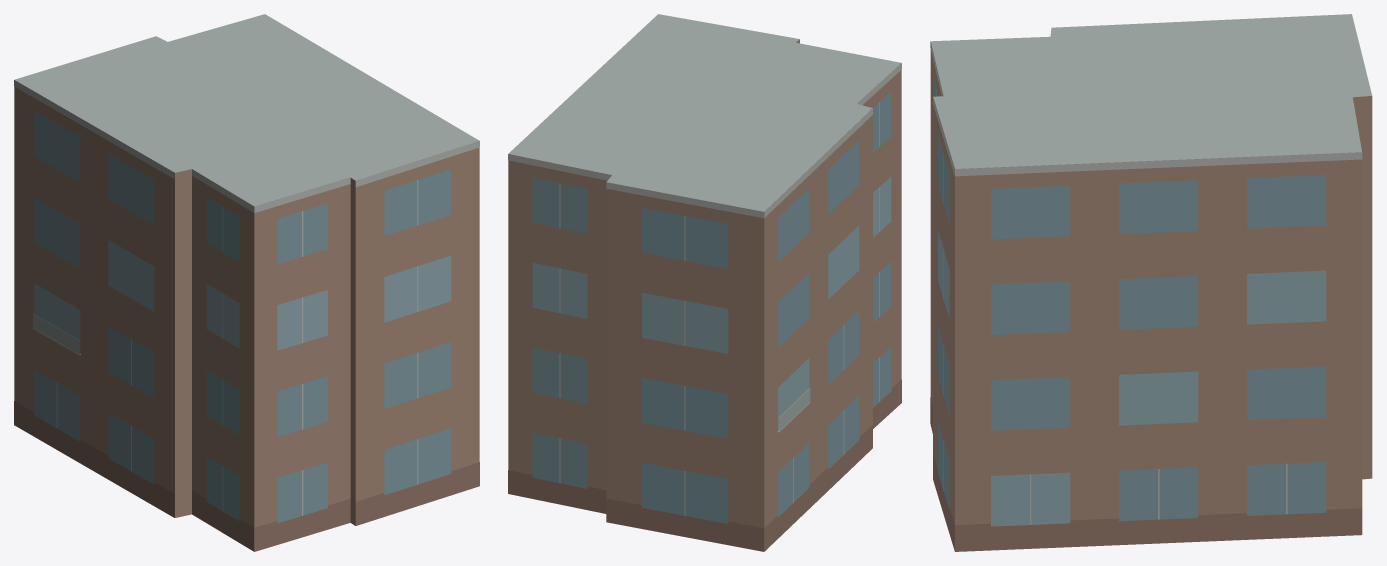
File: survey-upis-32996334.glb
3 views of the same model, side by side, from view 1: azimuth 30°, elevation 25°; view 2: azimuth 150°, elevation 25°; view 3: azimuth 270°, elevation 25° (orthographic). The views are drawn at different scales.
Visible parts, largest first — view 1: survey-upis-32996334.tmp; view 2: survey-upis-32996334.tmp; view 3: survey-upis-32996334.tmp.
Part boxes in pixels (x1,y1,x2,y2): survey-upis-32996334.tmp: (14,14,479,551); survey-upis-32996334.tmp: (508,14,901,551); survey-upis-32996334.tmp: (930,14,1372,551).
Bounding box in the file's own units: 11.13 × 12.8 × 13.4.
